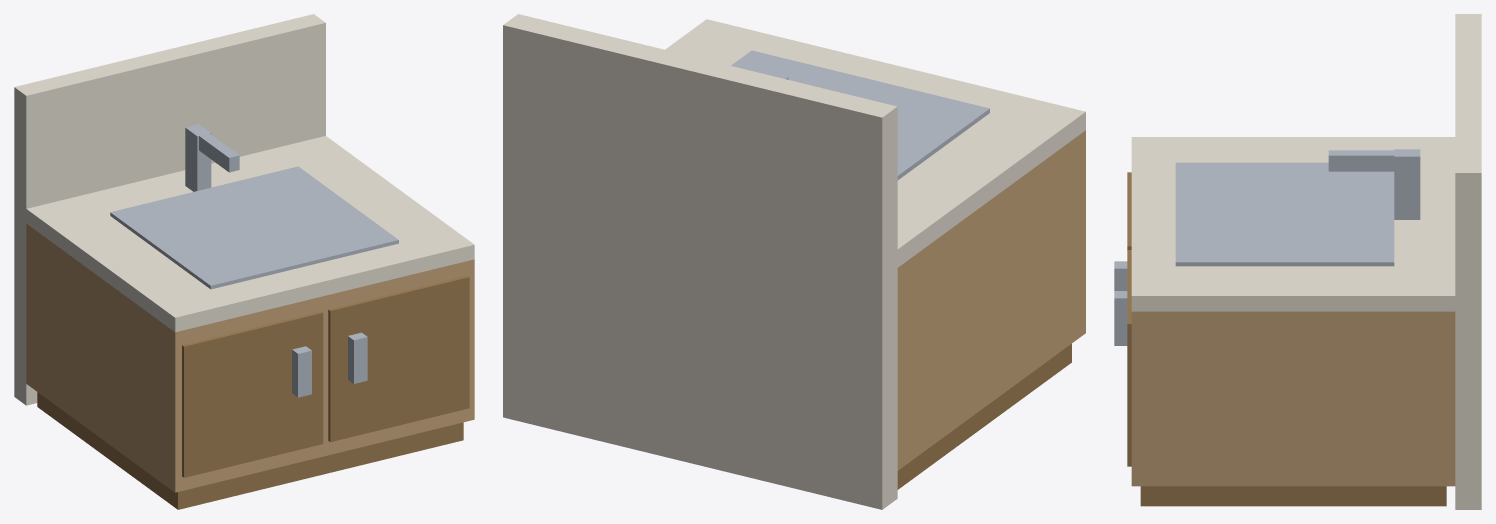
File: kitchenSinkCabinet.glb
3 renders of one model, left to right at view 1: azimuth 30°, elevation 25°; view 2: azimuth 150°, elevation 25°; view 3: azimuth 270°, elevation 25°, orthographic. The views are drawn at different scales.
Parts seen in each view (by area): view 1: kitchenSinkCabinet; view 2: kitchenSinkCabinet; view 3: kitchenSinkCabinet.
Part boxes in pixels (x1,y1,x2,y2): kitchenSinkCabinet: (14, 14, 474, 509); kitchenSinkCabinet: (503, 14, 1085, 509); kitchenSinkCabinet: (1114, 14, 1481, 509).
Bounding box in the file's own units: 0.86 × 0.85 × 0.84.
1 material, 1 textured.
